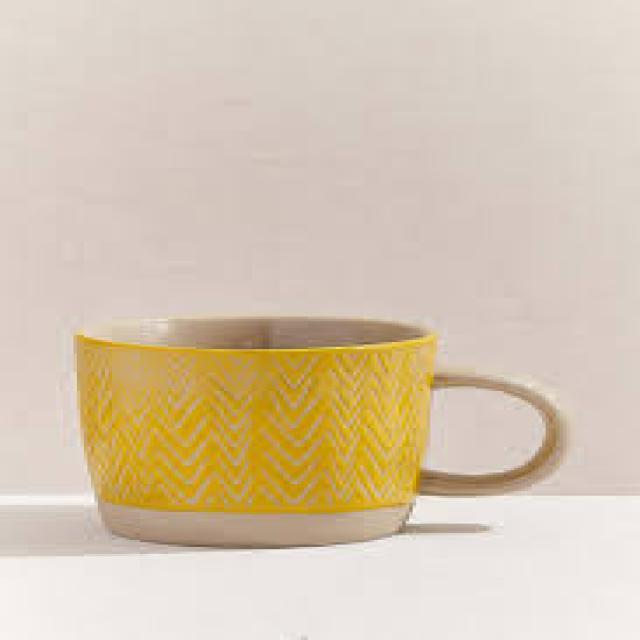taza: (71, 314, 573, 552)
